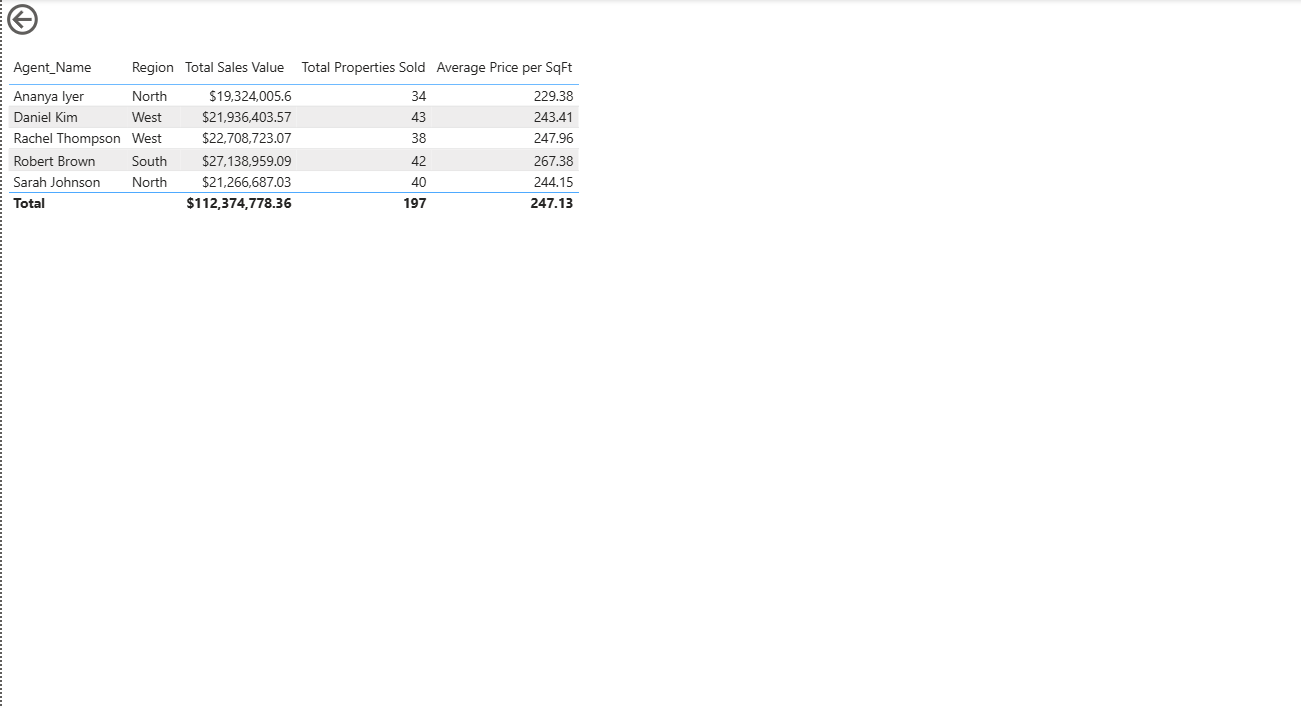

The dashboard page shown, as its layout file describes it:
{"tool":"powerbi","page":{"name":"Agent Performance","canvas":[1280,720],"ordinal":2},"visuals":[{"type":"actionButton","box":[0,0,100,40],"z":0},{"type":"tableEx","fields":{"Values":["Agents.Agent_Name","Agents.Region","Property_Sales.Total Sales Value","Property_Sales.Total Properties Sold","Property_Sales.Average Price per SqFt"]},"box":[0,50,581.2,171.2],"z":1000}]}

Visuals, with their boxes on the page's 1280x720 design canvas (x1, y1, x2, y2). These are canvas units, not pixel positions in the 1301x707 screenshot, which may show the page scaled, cropped or inside an application window:
actionButton: bbox=[0, 0, 100, 40]
tableEx - Agents.Agent_Name x Agents.Region: bbox=[0, 50, 581, 221]
